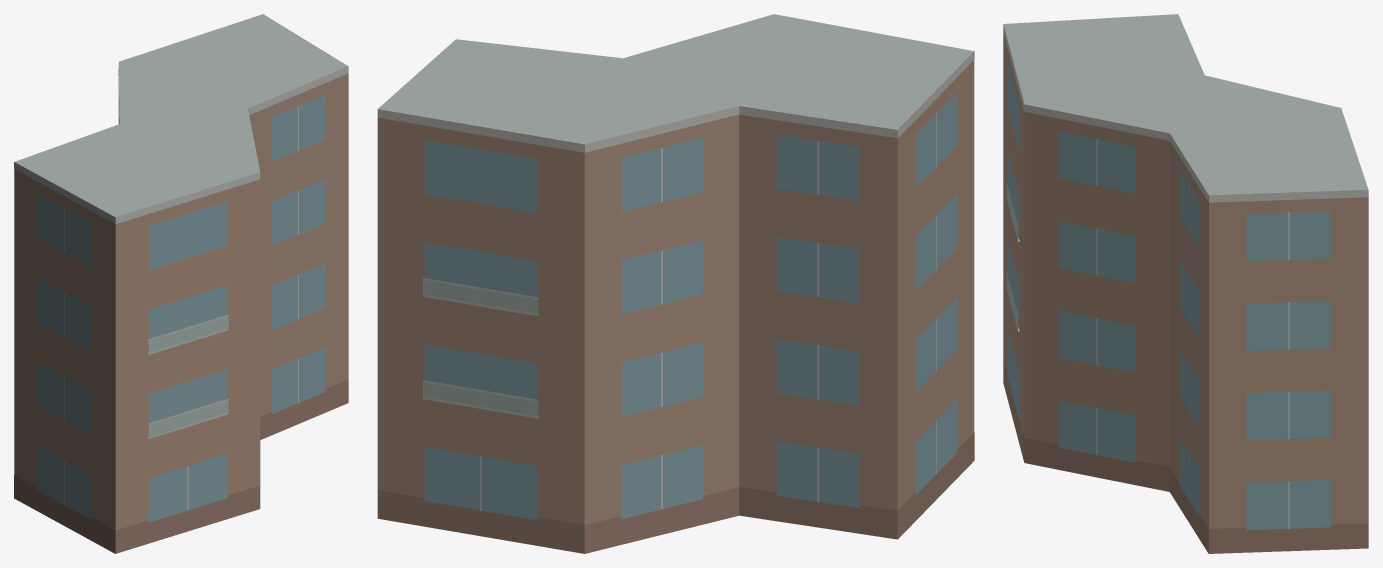
File: survey-upis-32603654.glb
3 renders of one model, left to right at view 1: azimuth 30°, elevation 25°; view 2: azimuth 150°, elevation 25°; view 3: azimuth 270°, elevation 25°, orthographic. The views are drawn at different scales.
Visible parts, largest first — view 1: survey-upis-32603654.tmp; view 2: survey-upis-32603654.tmp; view 3: survey-upis-32603654.tmp.
Part boxes in pixels (x1,y1,x2,y2): survey-upis-32603654.tmp: (14, 14, 348, 553); survey-upis-32603654.tmp: (377, 14, 974, 553); survey-upis-32603654.tmp: (1003, 14, 1368, 553).
Bounding box in the file's own units: 12.81 × 11.8 × 10.91.
